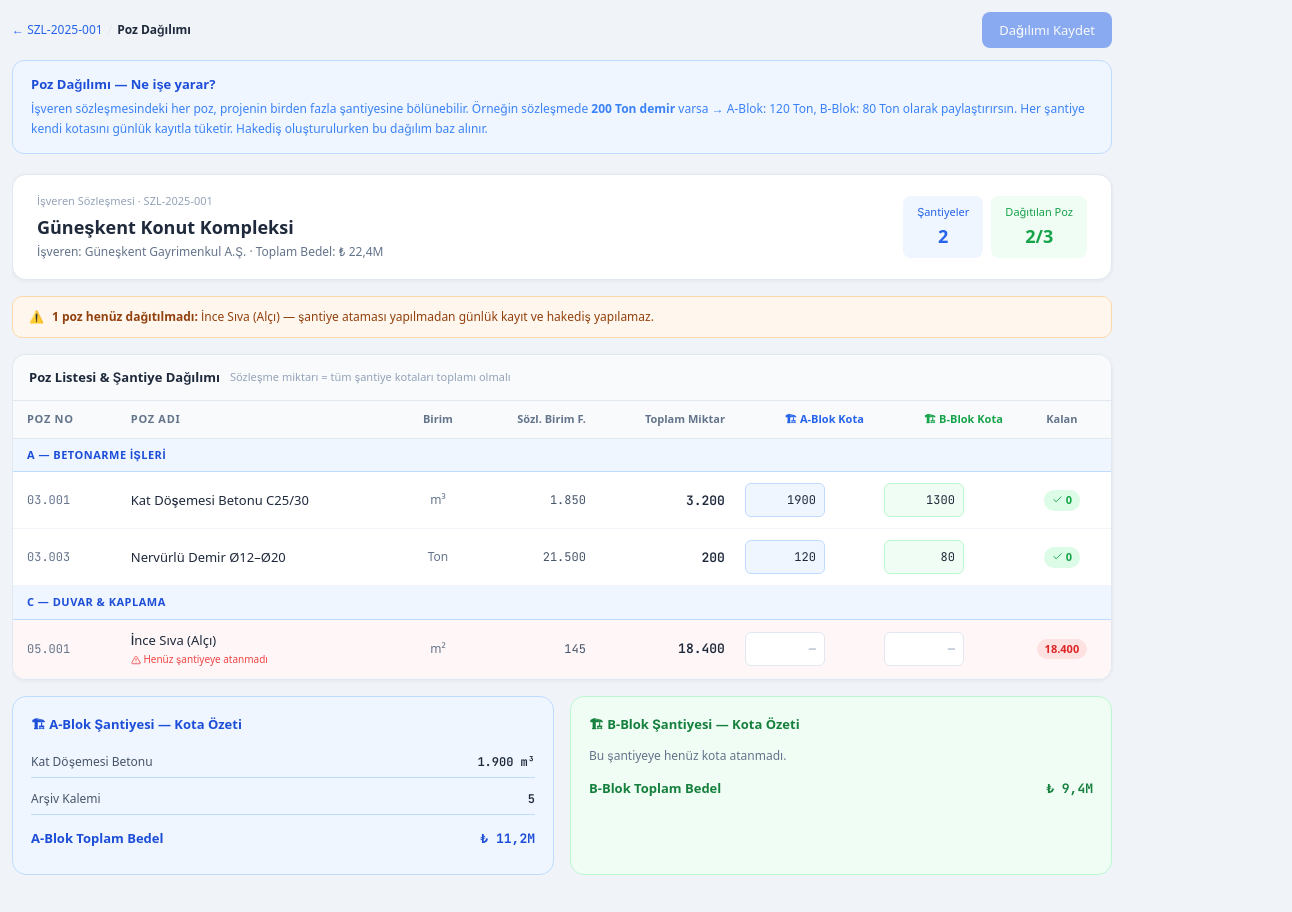
Test: POZ dağılımı — BİRLEŞTİRME (merge) semantiği › başarılı kayıttan sonra kirli sayaç sıfırlanır ve buton yeniden devre dışı kalır
Check: the button with test id "cdist-save" is disabled, box [982,12,1112,48]
Replace the text in the field named "03.001 · A-Blok kotası" with "2000" at (785, 500), box [745,483,825,517]
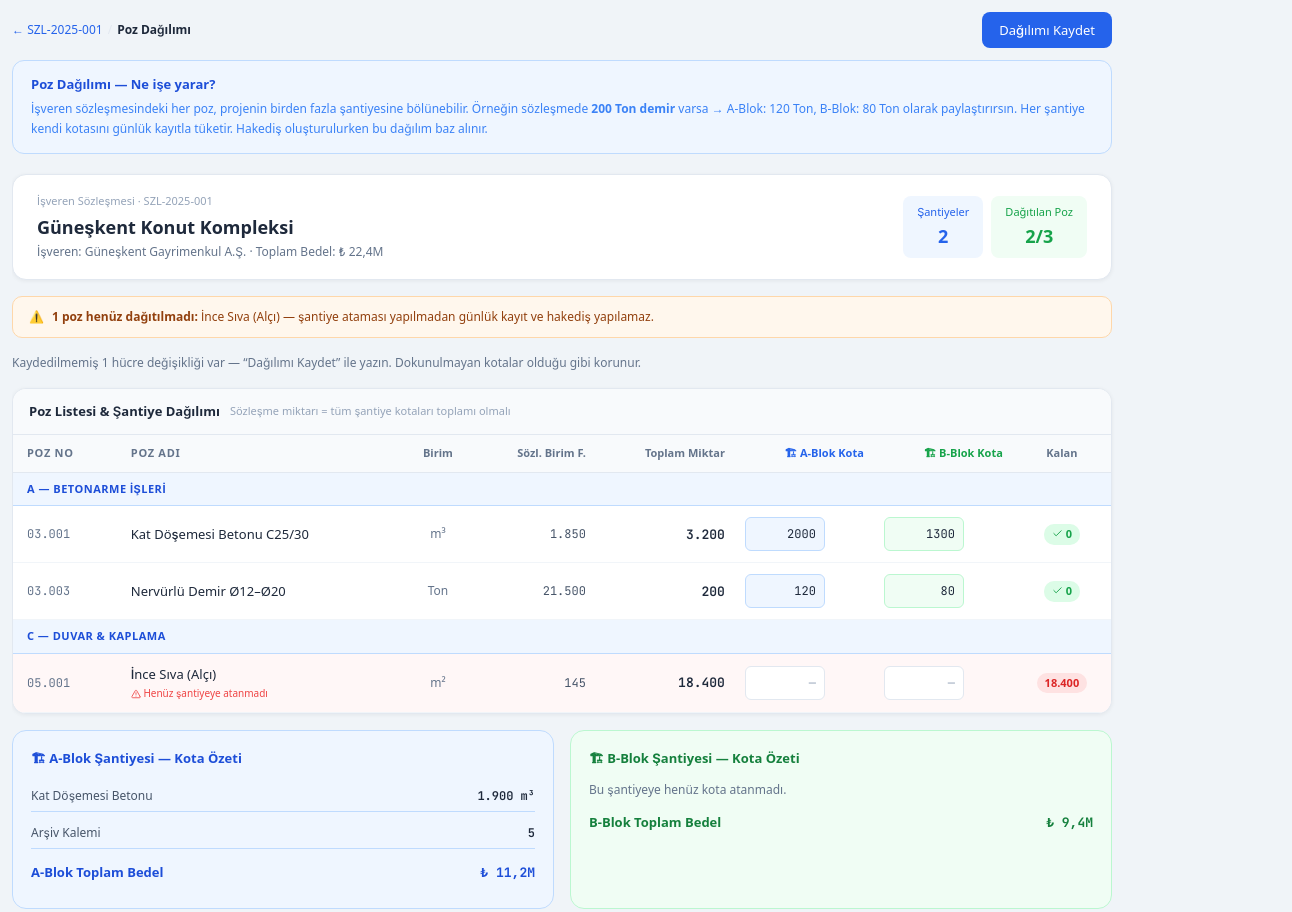
Check: the button with test id "cdist-save" is enabled
Check: the text "Kaydedilmemiş 1 hücre değişikliği" is shown, box [12,354,641,371]
Click the button with test id "cdist-save" at (1047, 30), box [982,12,1112,48]
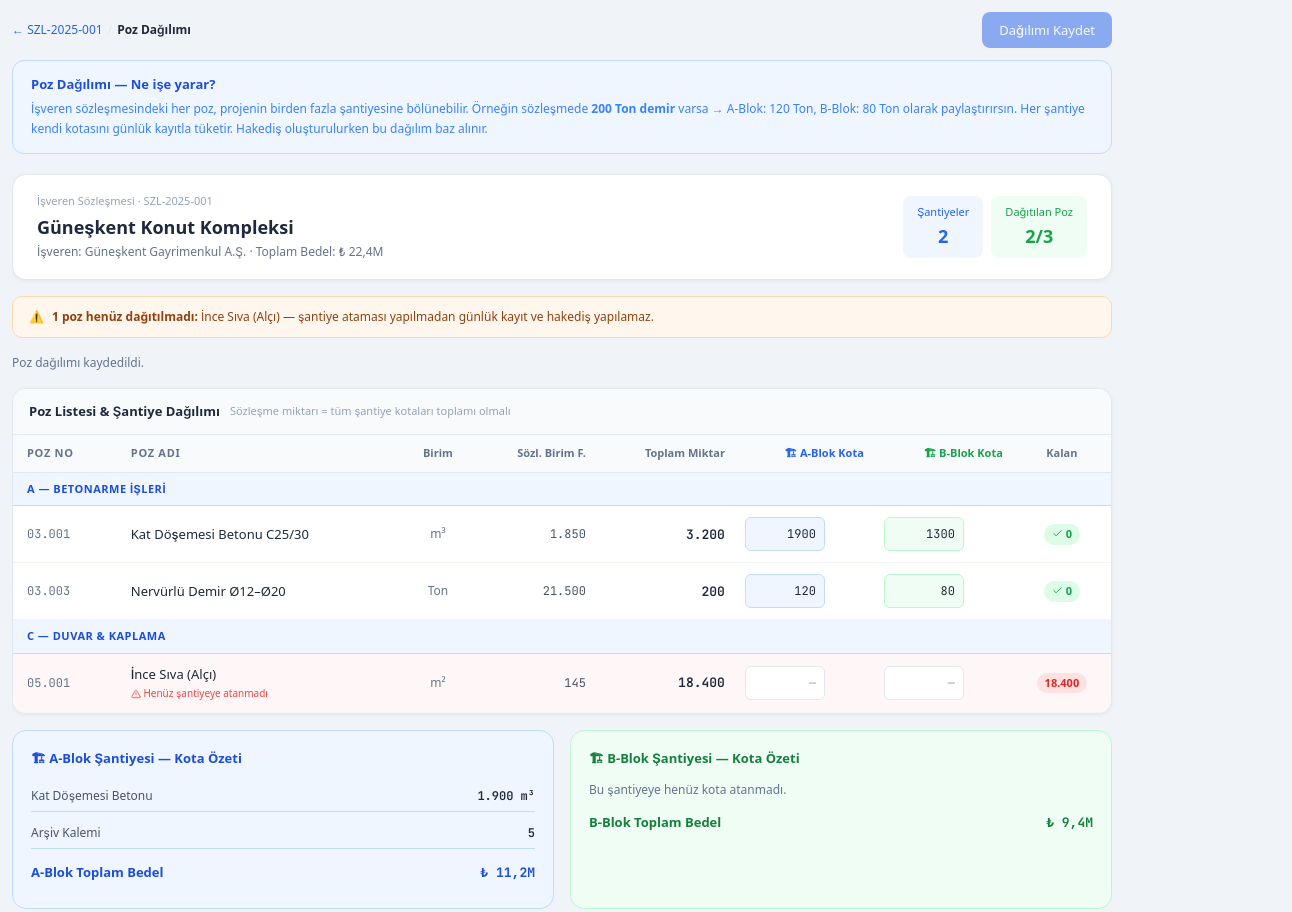
Check: the text "Poz dağılımı kaydedildi." is shown, box [12,354,144,371]
Check: the button with test id "cdist-save" is disabled, box [982,12,1112,48]
